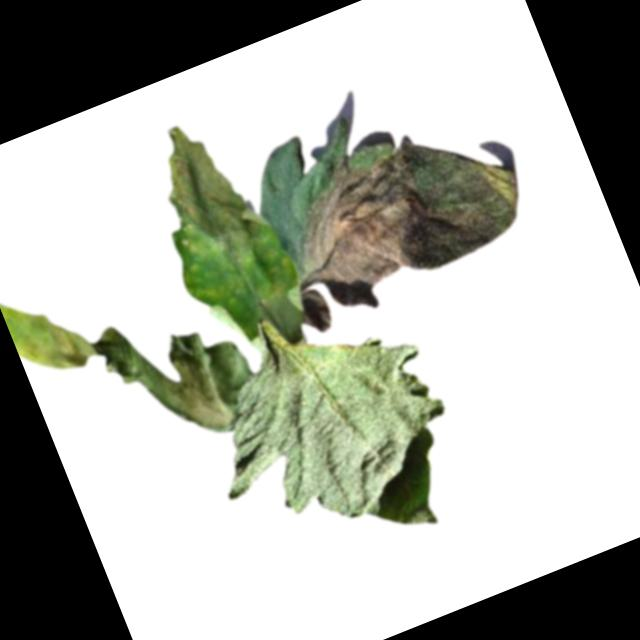Late_blight: (1, 222, 270, 493), (262, 100, 546, 334), (140, 105, 279, 278), (258, 282, 315, 344)
healthy: (174, 269, 484, 591)
